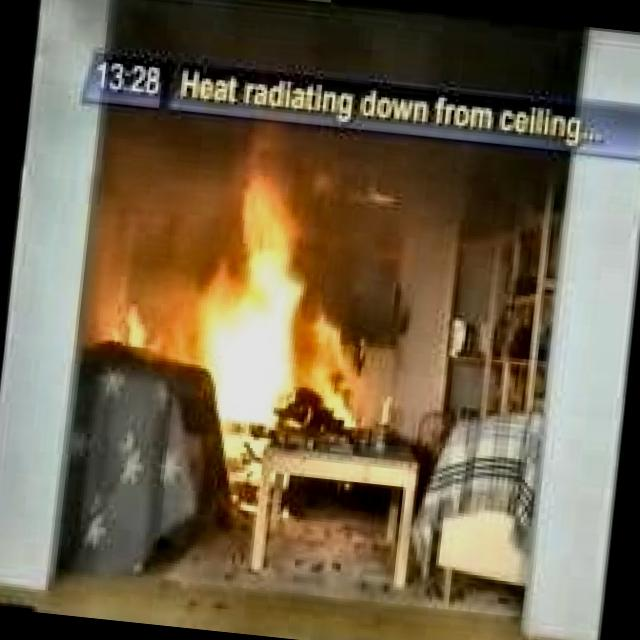fire: (160, 177, 345, 438)
smoke: (112, 0, 585, 104)
